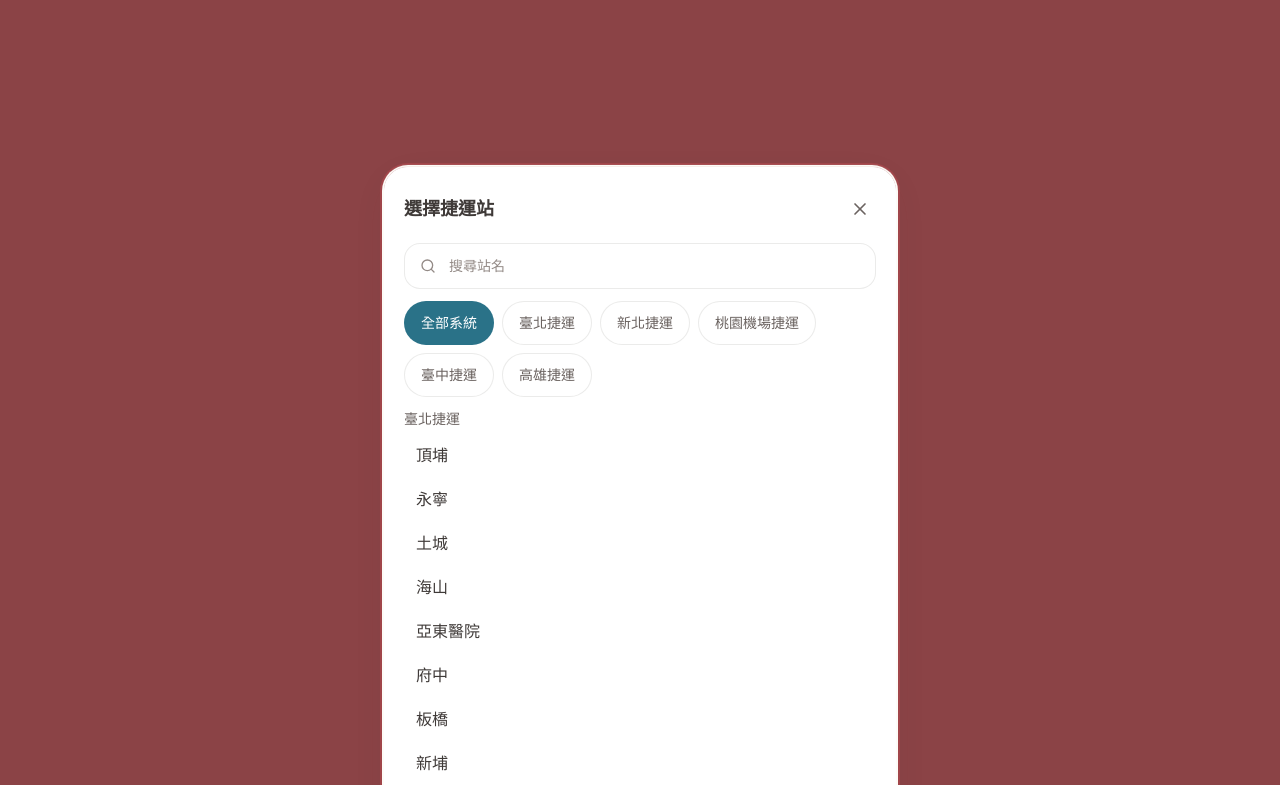
MrtPicker › 打站名就收窄到那一站
This screenshot has width=1280, height=785.
Type "劍潭" into the search field named "搜尋捷運站" at (640, 266), box 404,243 -> 876,289
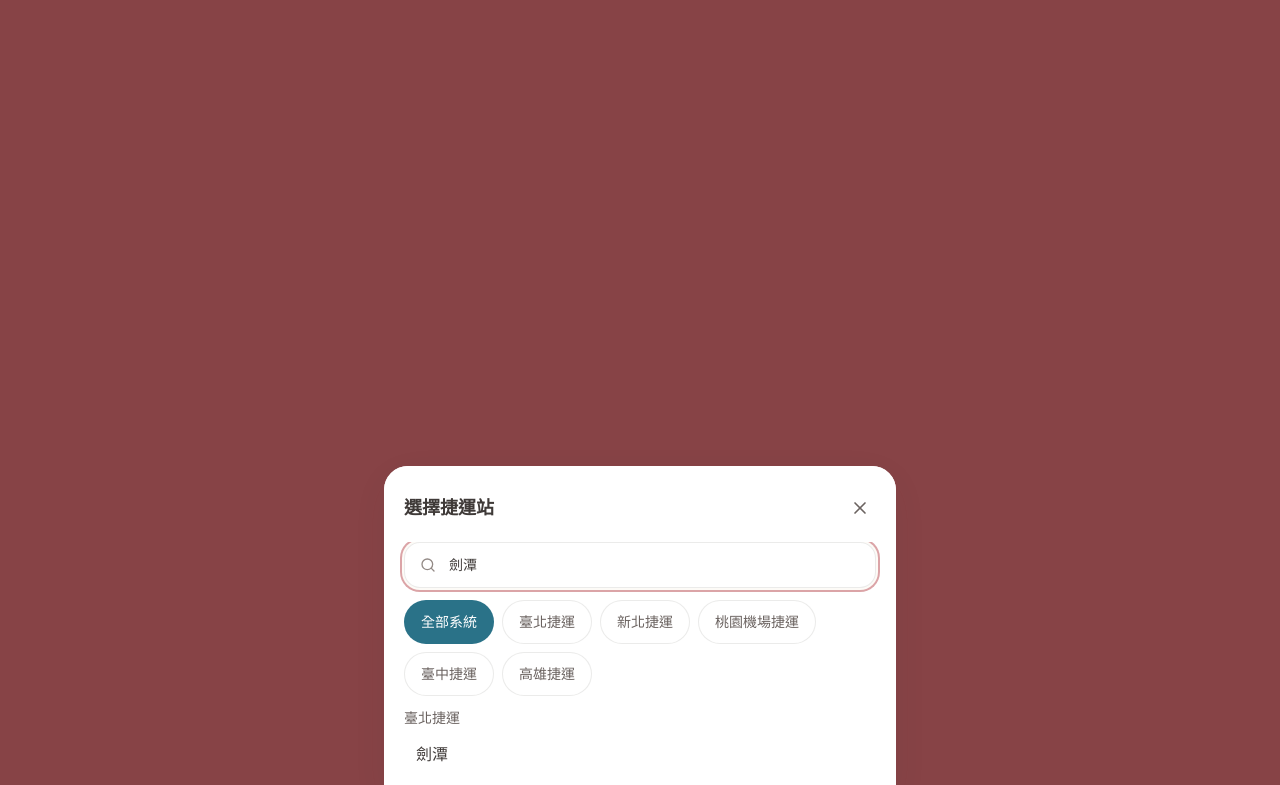
expect the button "劍潭" is shown: met, box 404,732 -> 876,776
